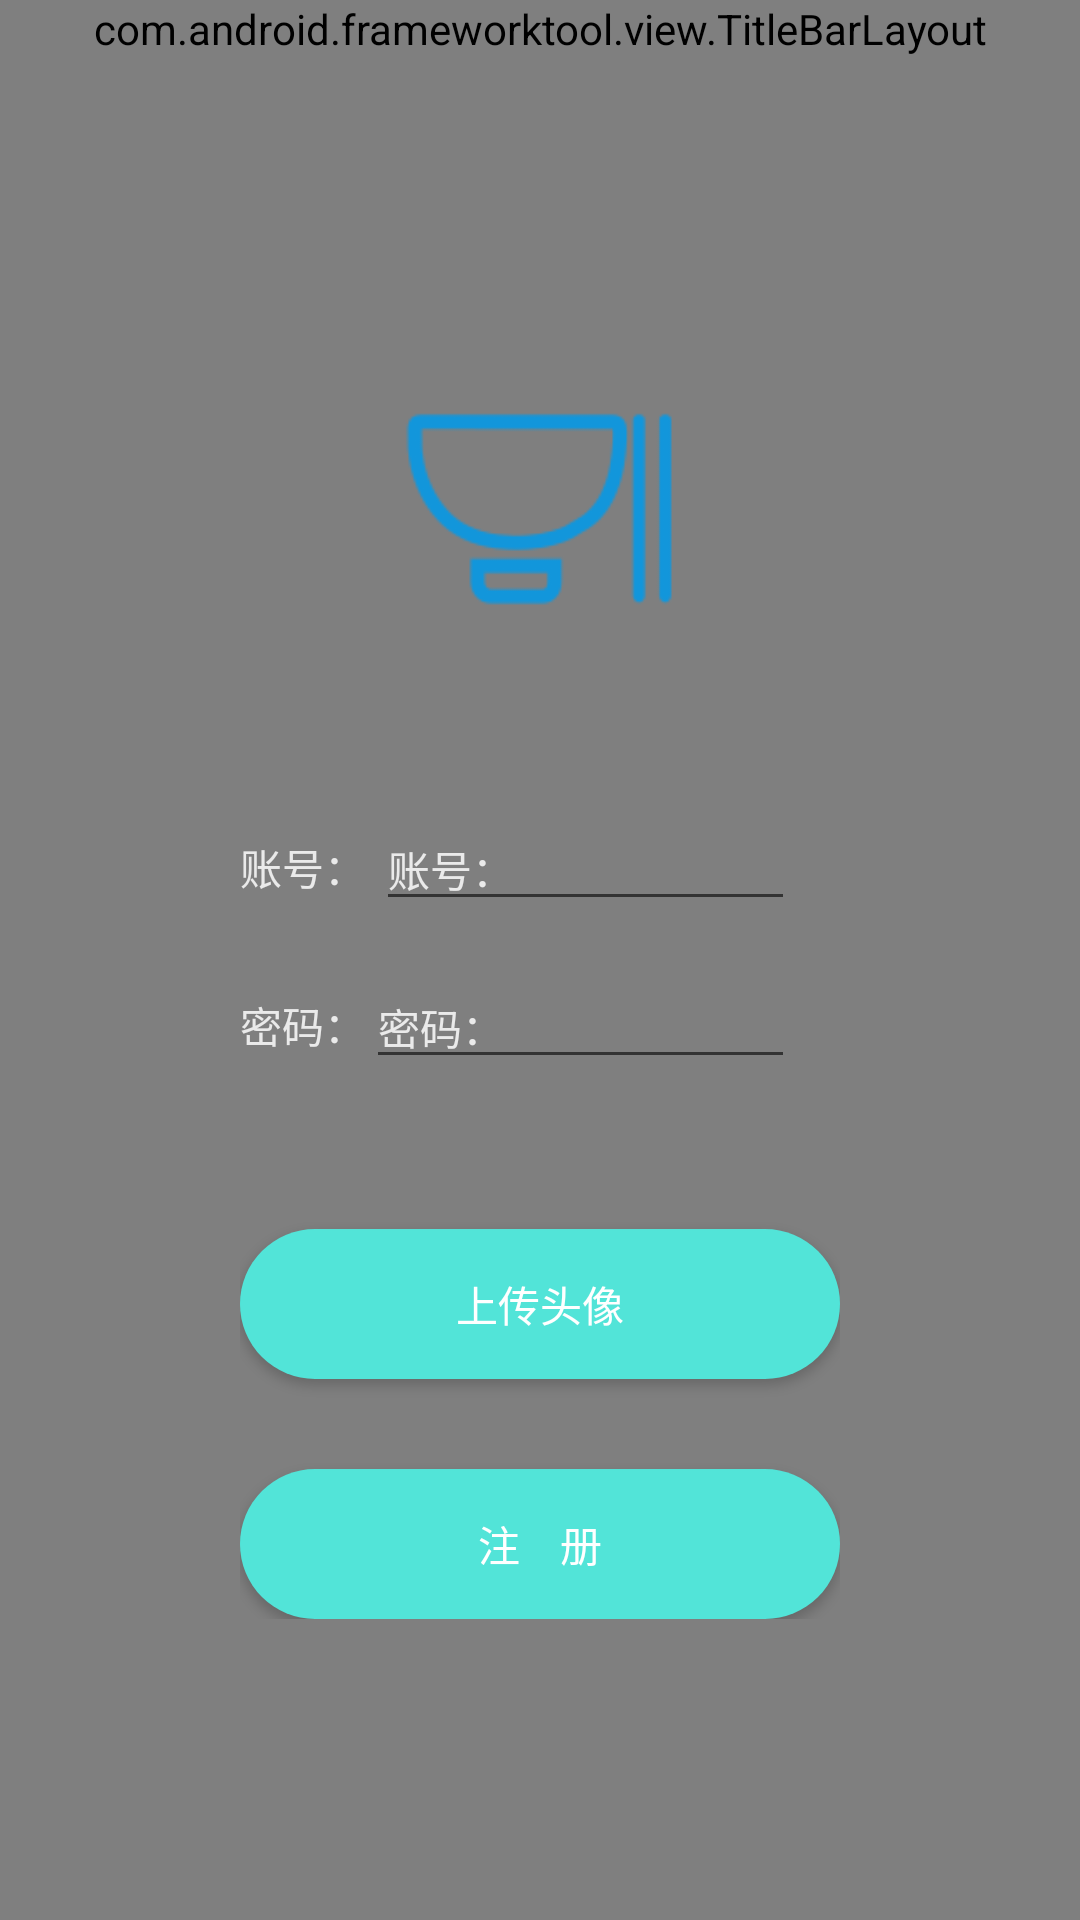

Named icons in this screenshot (1080x1920) and their bounding boxes, (left=x1, top=y1, right=x2, bottom=y2):
diancan: (left=406, top=414, right=672, bottom=604)
